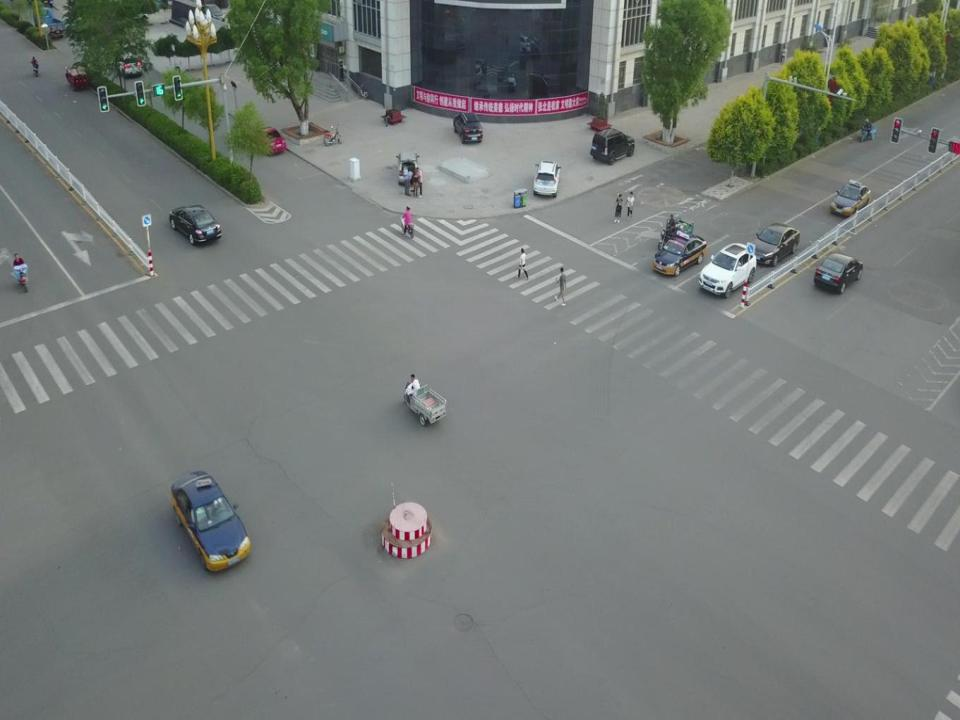car: (170, 471, 252, 572), (699, 243, 756, 298), (654, 232, 707, 278), (168, 204, 222, 247), (749, 222, 800, 267), (814, 252, 863, 294), (590, 128, 634, 165), (830, 180, 871, 217), (533, 160, 561, 198), (453, 112, 484, 144), (254, 126, 286, 155), (396, 152, 419, 184), (115, 53, 142, 77)
truck: (33, 6, 64, 38)
